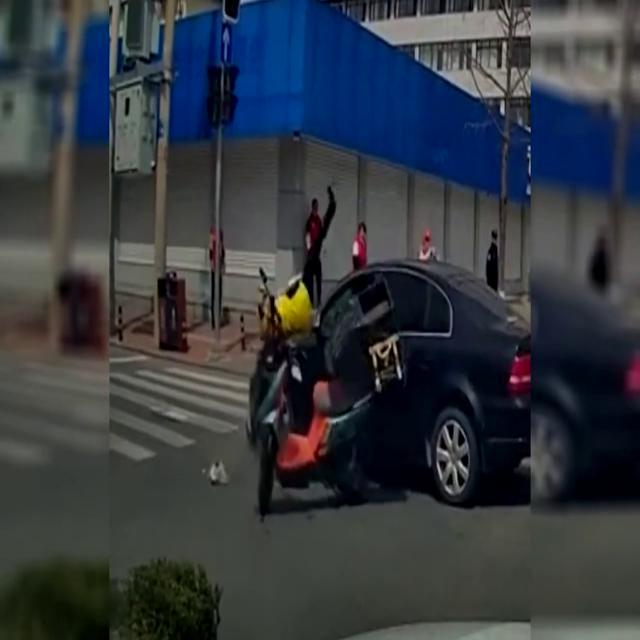accident: (205, 186, 530, 522)
